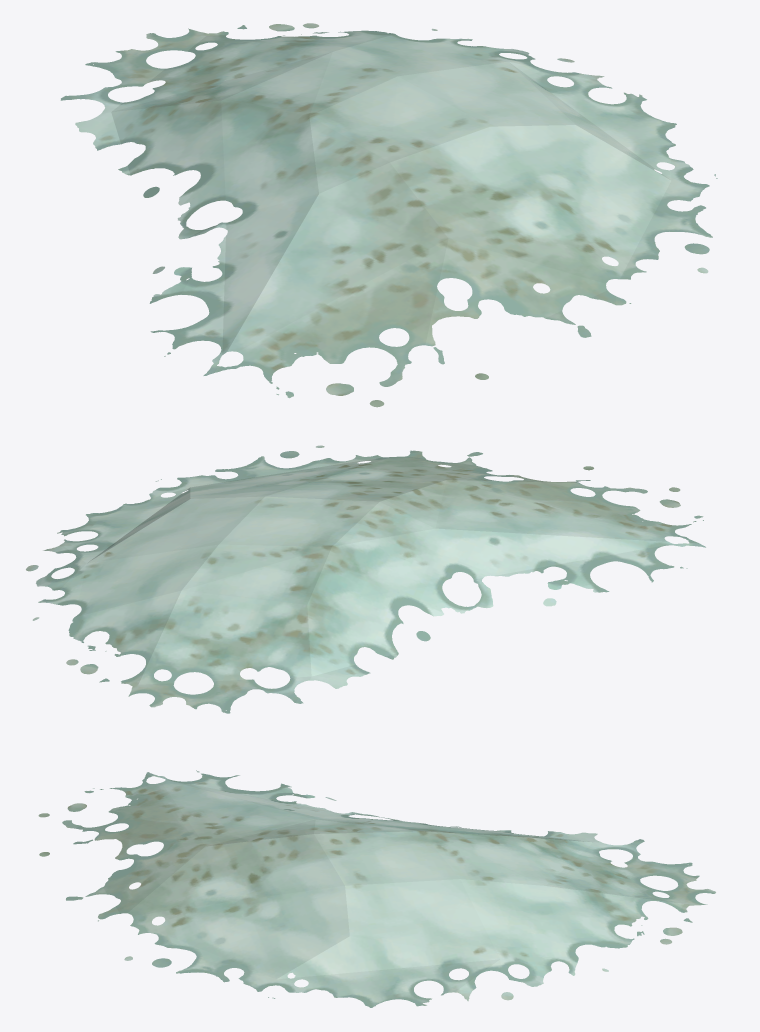
Rendered from small_hill02_grassblend.fbx.
The picture shows the model from 3 angles, top to bottom: view 1: azimuth 30°, elevation 25°; view 2: azimuth 150°, elevation 25°; view 3: azimuth 270°, elevation 25°; orthographic projection. The views are drawn at different scales.
Visible parts, largest first — view 1: obj0.090; view 2: obj0.090; view 3: obj0.090.
Boxes of the visible parts, x1,y1,x2,y2 form: obj0.090: (60,23,717,407); obj0.090: (26,445,705,713); obj0.090: (38,770,715,1007).
Size of the model in its own units: 13.97 by 1.36 by 16.94.
